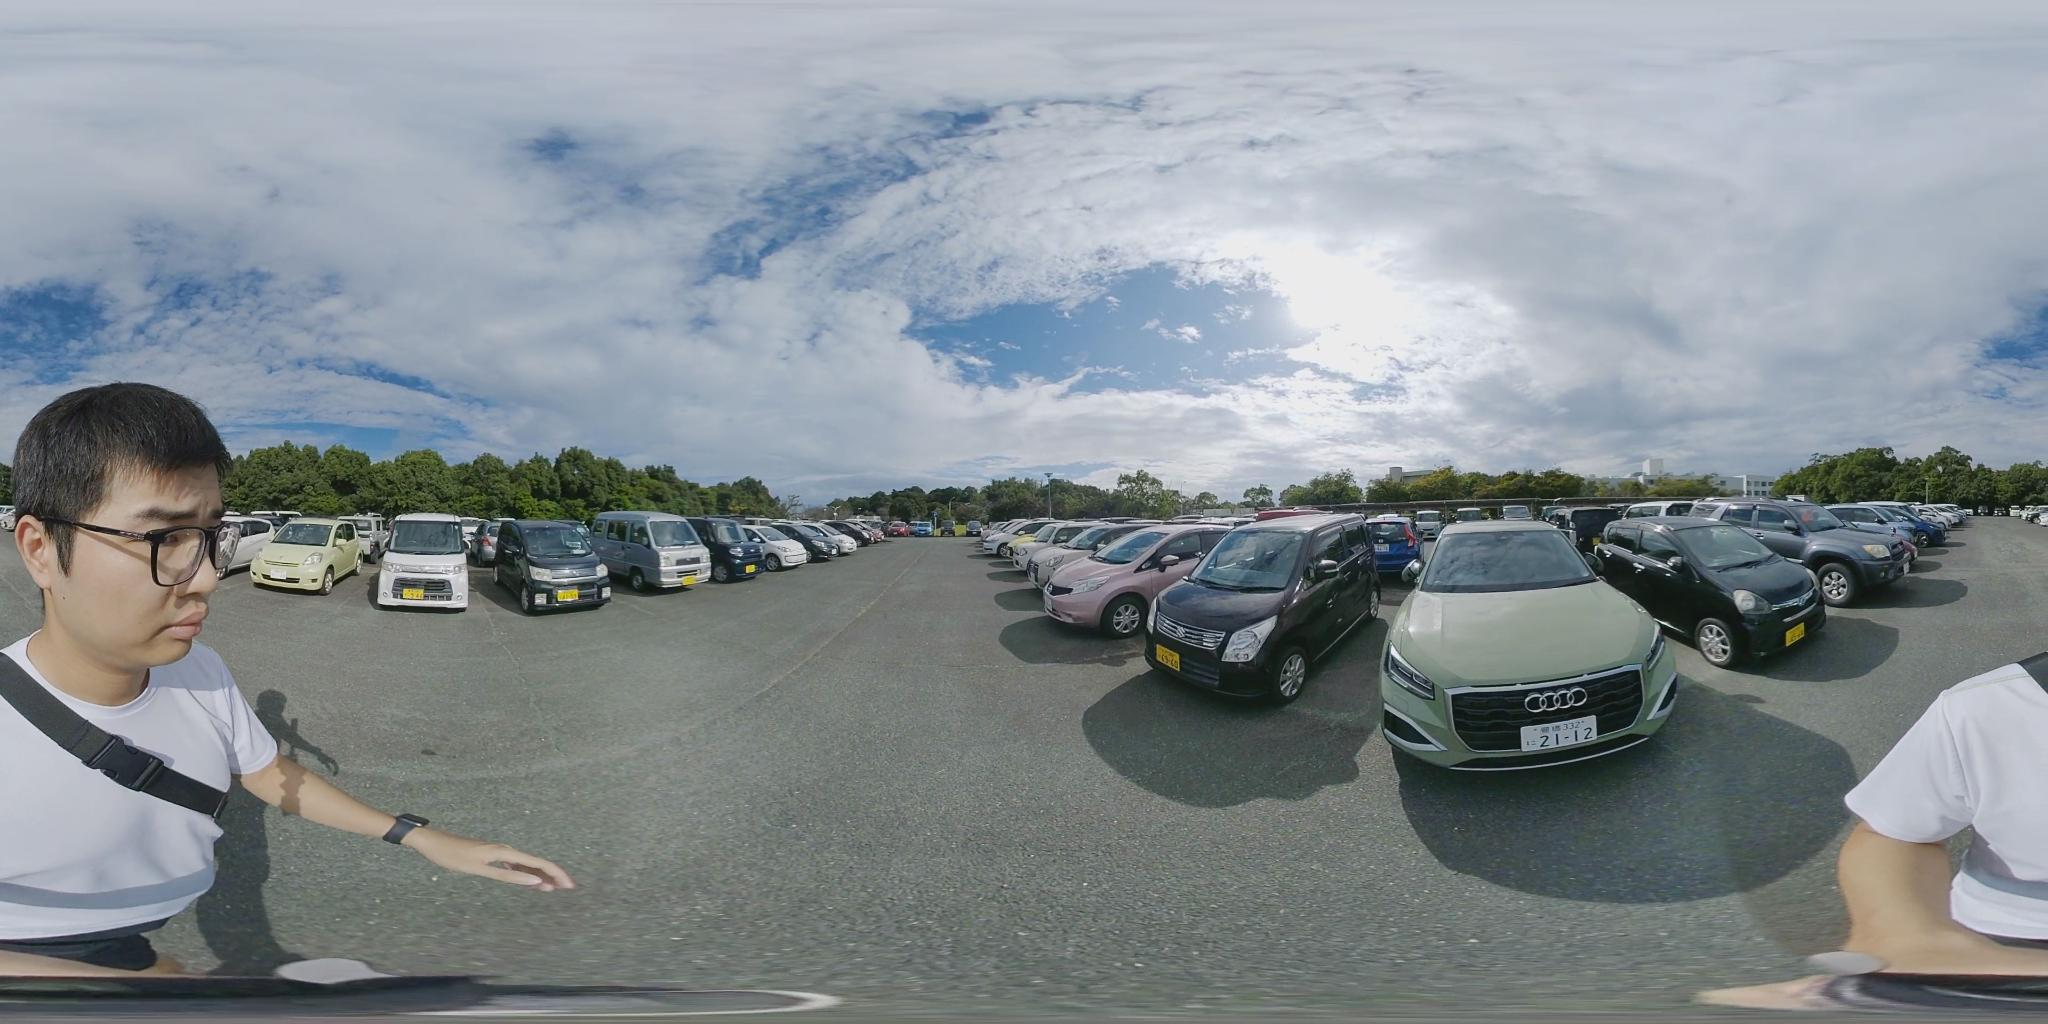car: (1392, 519, 1668, 778), (1131, 517, 1428, 701), (1588, 515, 1832, 666), (1646, 499, 1928, 601), (1037, 525, 1258, 637), (485, 520, 613, 616), (366, 513, 488, 607), (596, 515, 728, 592), (249, 519, 375, 593), (1015, 522, 1155, 588), (1814, 505, 1940, 556), (690, 519, 794, 576), (763, 521, 835, 563), (803, 521, 863, 556)
